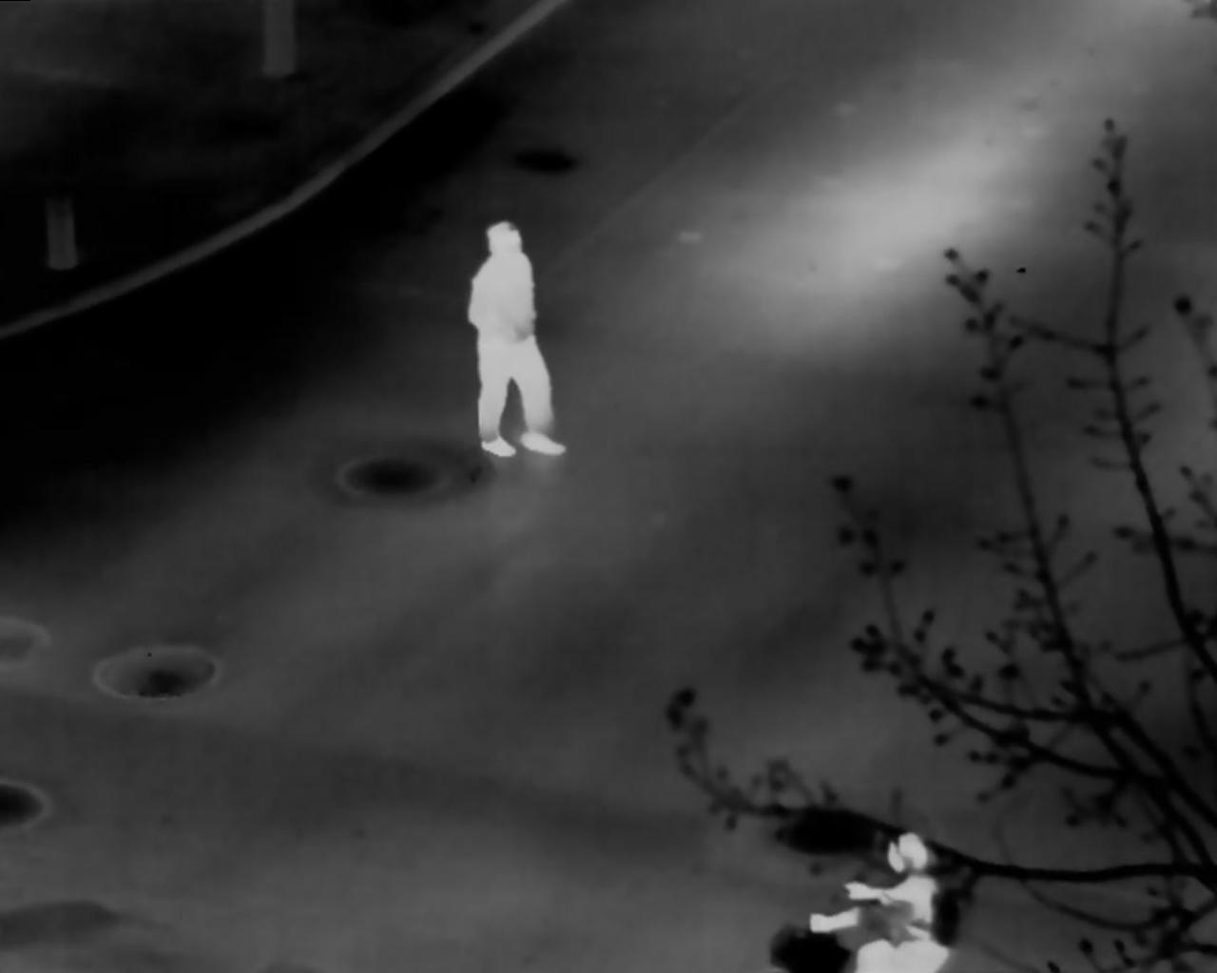person: (465, 219, 569, 456), (808, 830, 952, 973)
